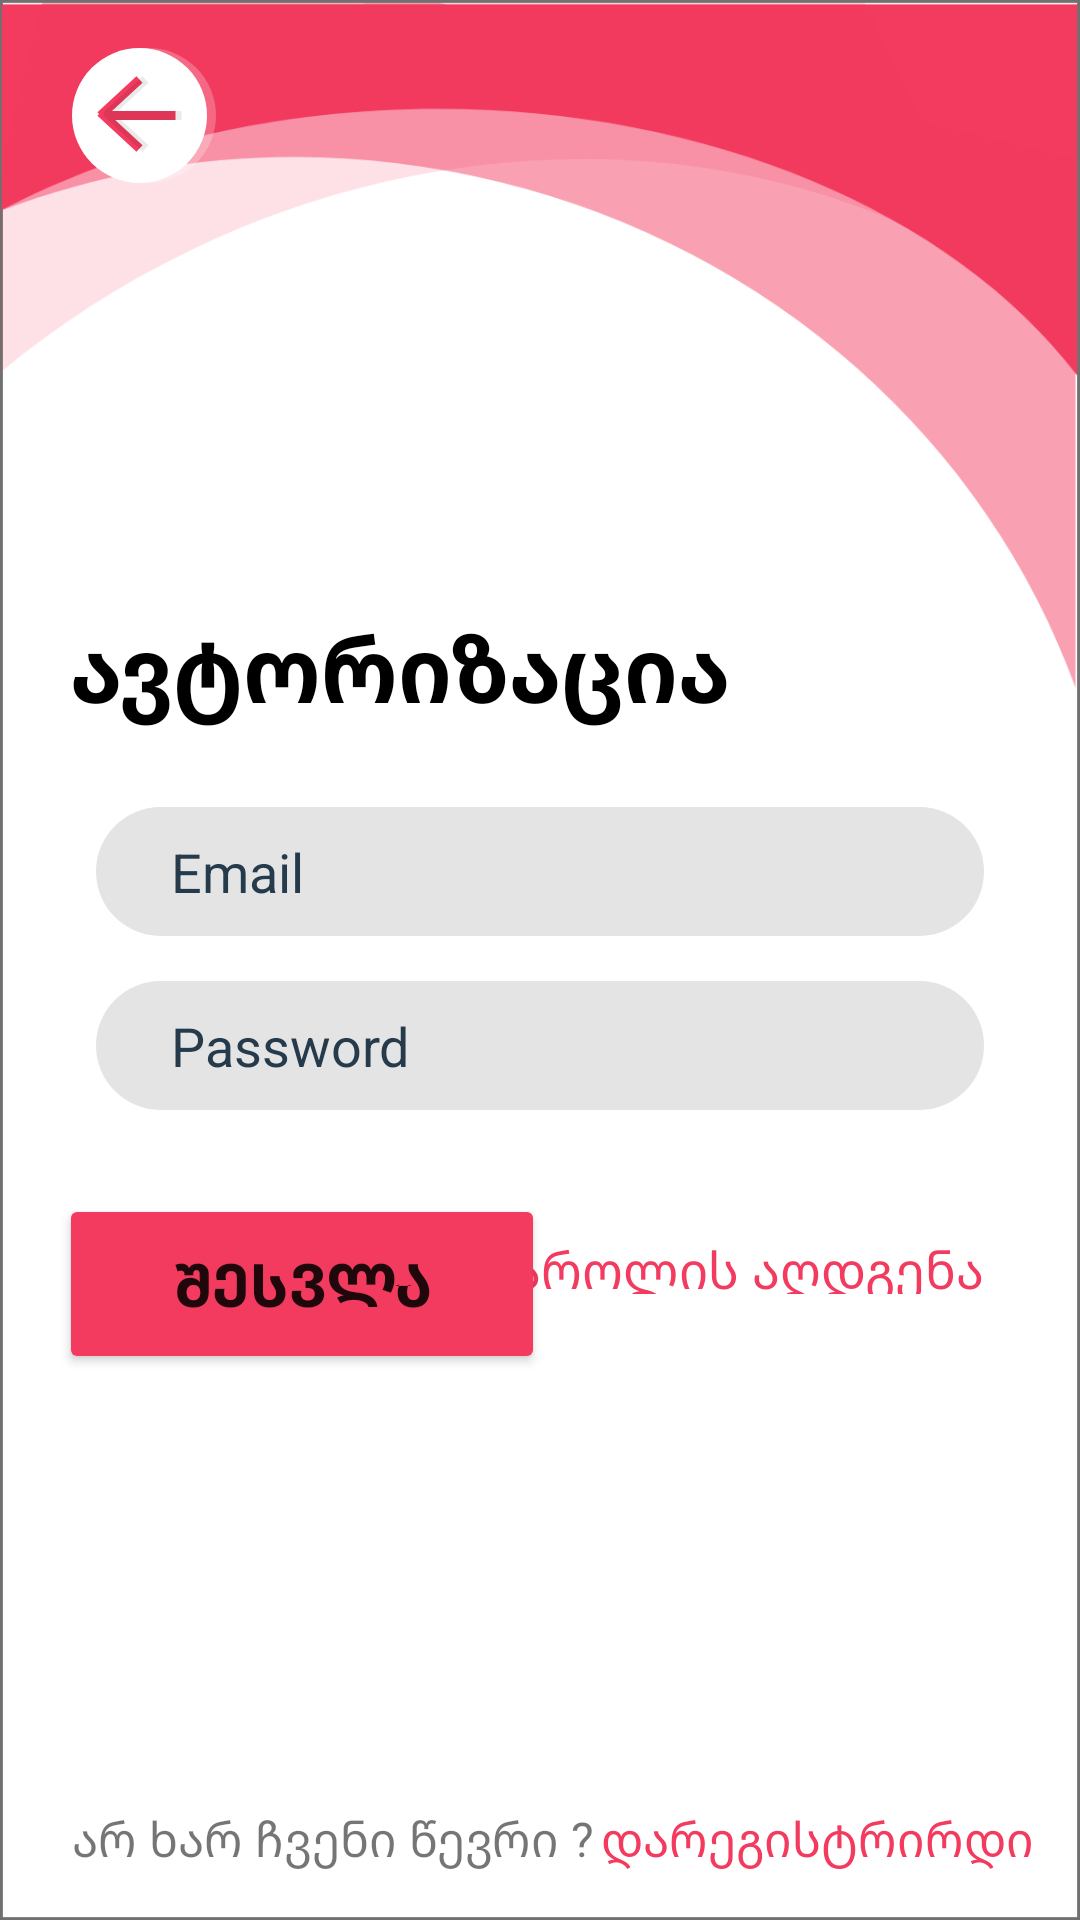

Locate icon controls on the screen. Image size 1080x1920, boxes as bbox=(x1, y1, x2, y2).
gotobackbutton: bbox=(72, 48, 216, 183)
